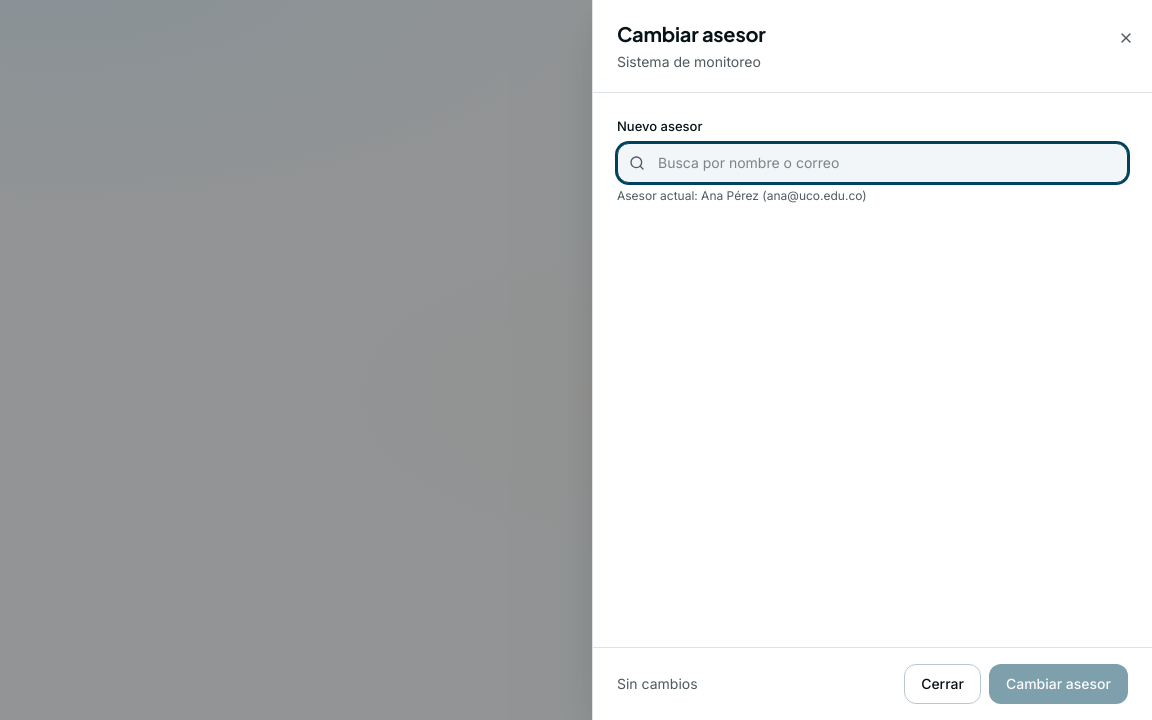
Test: CambiarAsesorPanel › pide confirmación con el nombre y el correo del nuevo asesor antes de cambiar
Click the dropdown labelled "Nuevo asesor" at (872, 162), box [617, 142, 1128, 182]
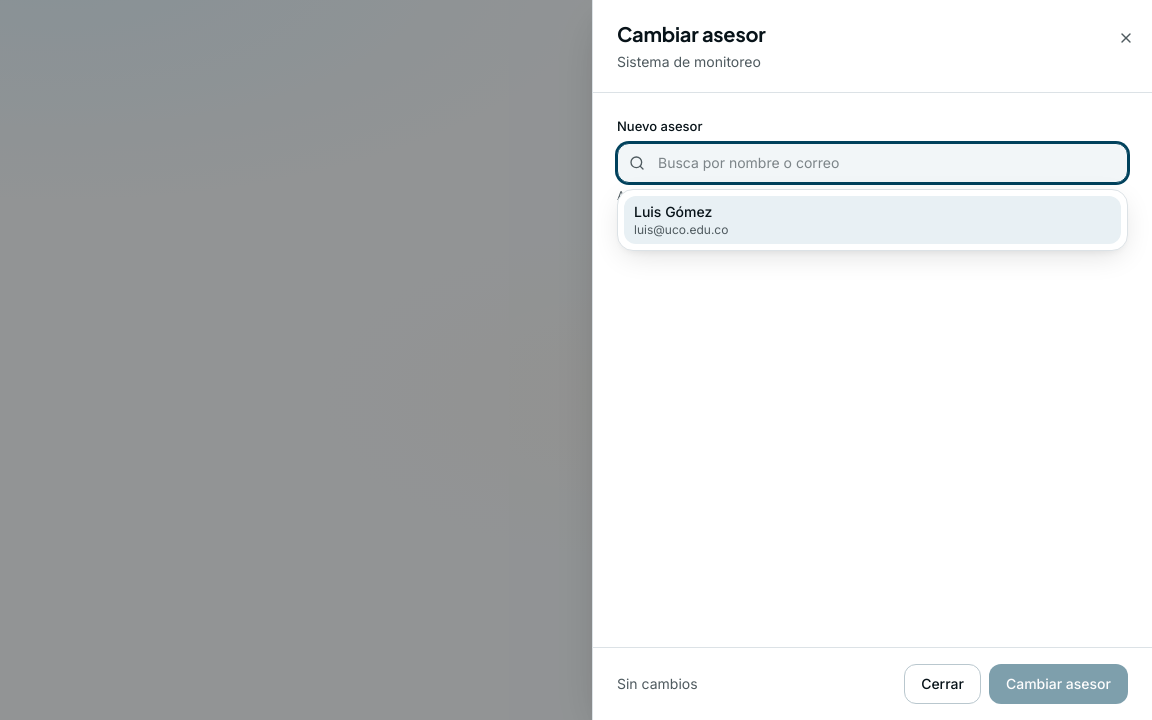
Click the option "Luis Gómez luis@uco.edu.co" at (673, 211), box [624, 196, 1121, 244]
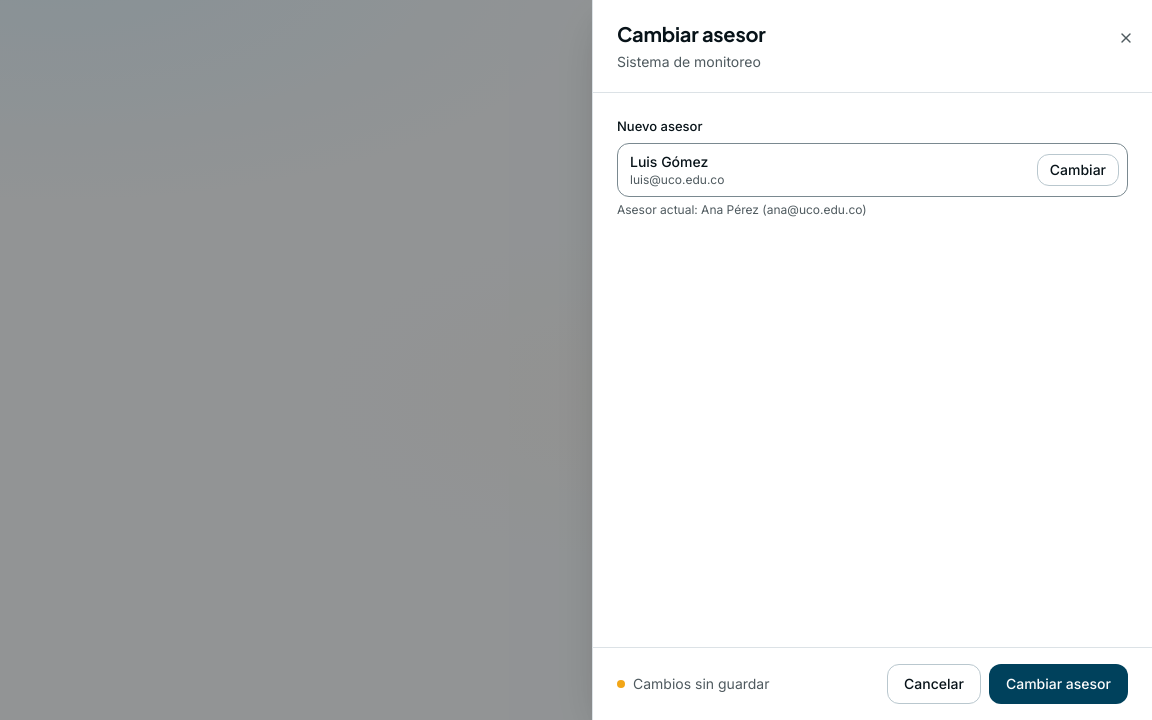
Click the button "Cambiar asesor" at (1058, 684), box [989, 664, 1128, 704]
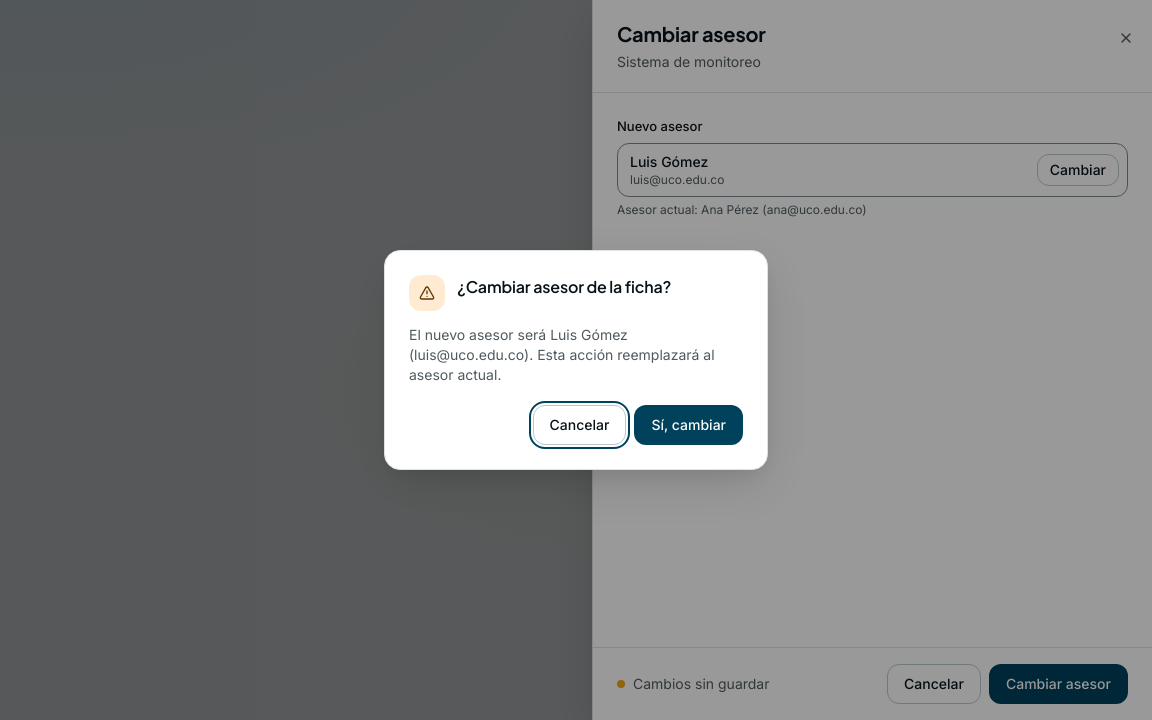
Now the dialog "¿Cambiar asesor de la ficha?" shows "Luis Gómez (luis@uco.edu.co)", box [409, 326, 715, 383]
